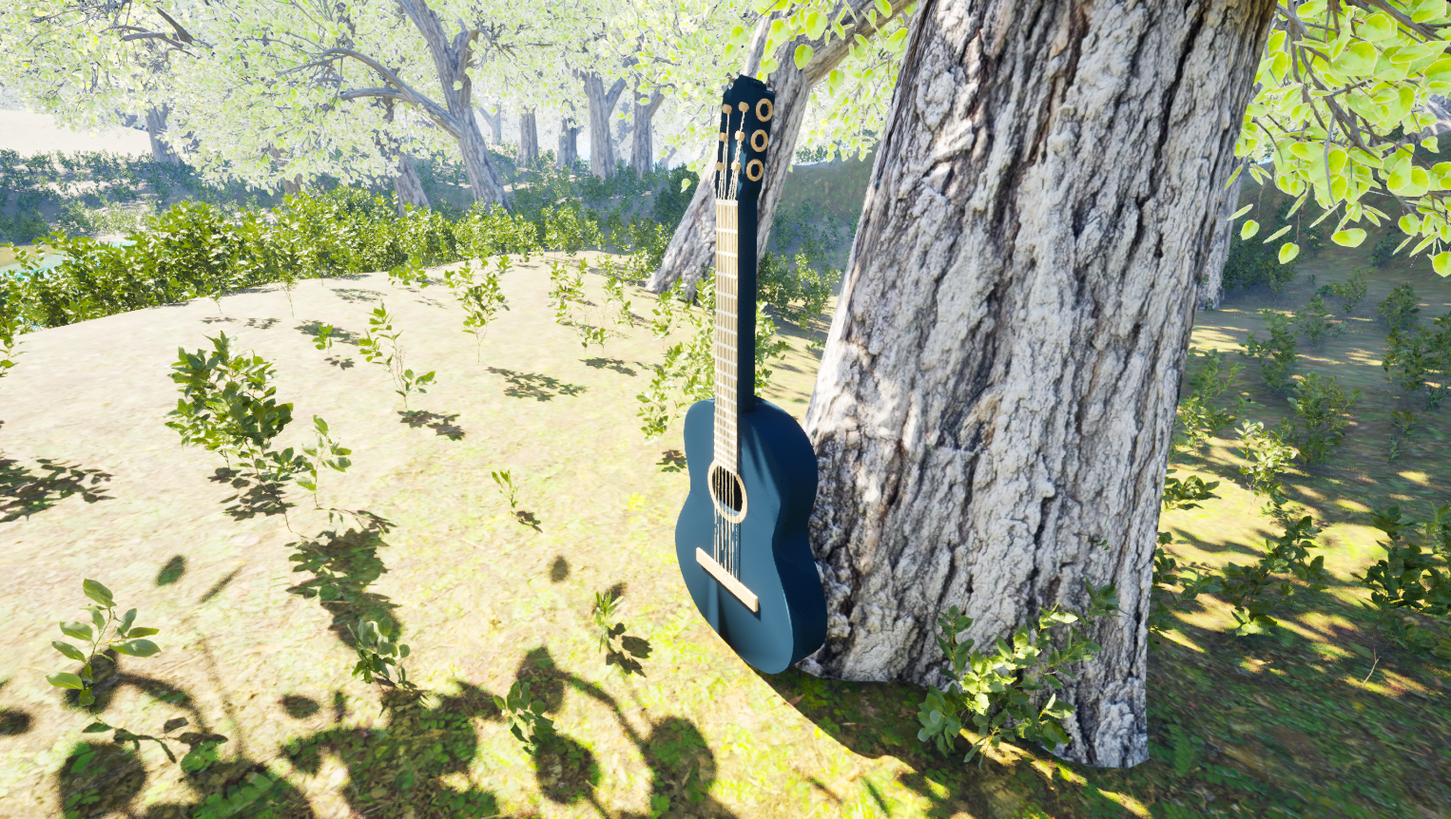Guitar: (655, 54, 871, 710)
